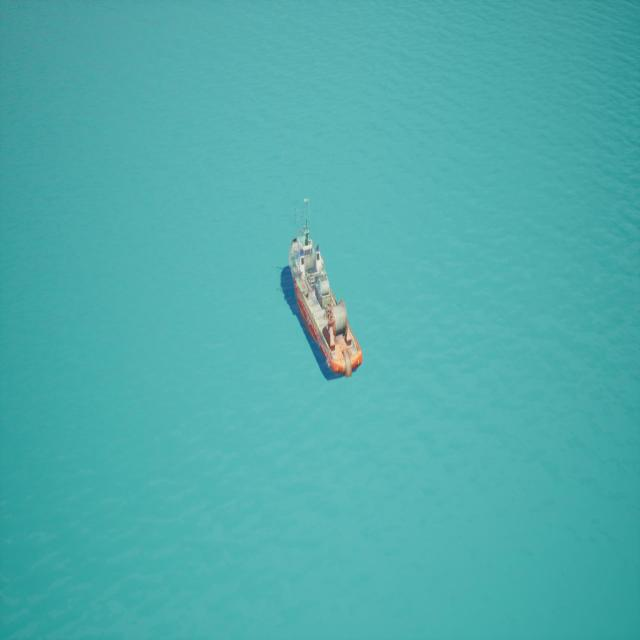tug boat: (281, 208, 356, 383)
